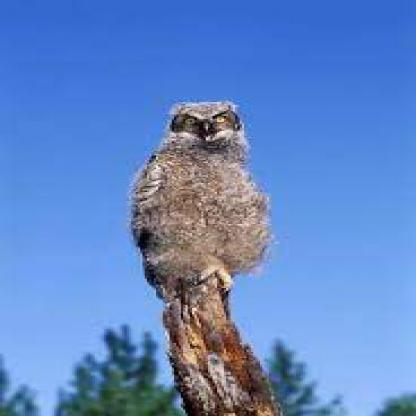owl: (52, 55, 414, 414)
